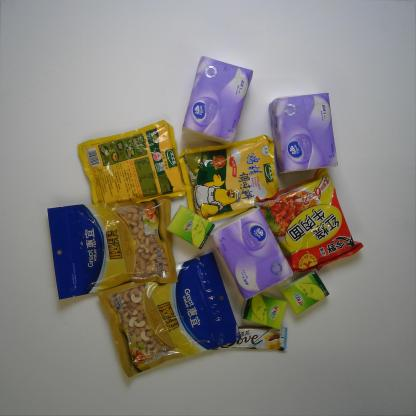Chocolate: (227, 323, 292, 356)
Dried Fruit: (92, 251, 240, 386), (43, 193, 182, 305)
Instant Noodles: (256, 167, 366, 277)
Seasoner: (74, 117, 195, 217), (177, 131, 282, 223)
Tissue: (210, 208, 292, 306), (176, 52, 256, 144), (266, 86, 342, 181), (165, 201, 219, 252), (278, 268, 330, 316), (241, 289, 289, 333)
